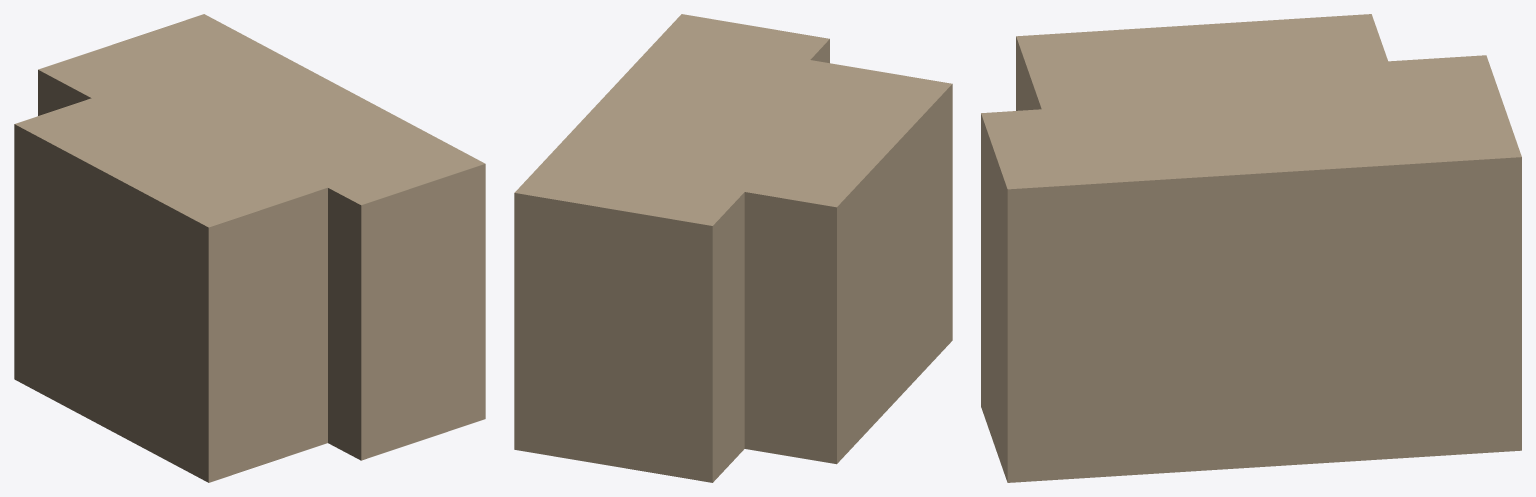
File: bld_109034804.dae
The picture shows the model from 3 angles, left to right: view 1: azimuth 30°, elevation 25°; view 2: azimuth 150°, elevation 25°; view 3: azimuth 270°, elevation 25°; orthographic projection. The views are drawn at different scales.
Visible parts, largest first — view 1: bld_109034804; view 2: bld_109034804; view 3: bld_109034804.
Boxes of the visible parts, x1,y1,x2,y2 form: bld_109034804: [14, 14, 485, 482]; bld_109034804: [514, 14, 952, 482]; bld_109034804: [981, 14, 1521, 482].
Size of the model in its own units: 10.25 by 13.36 by 8.
